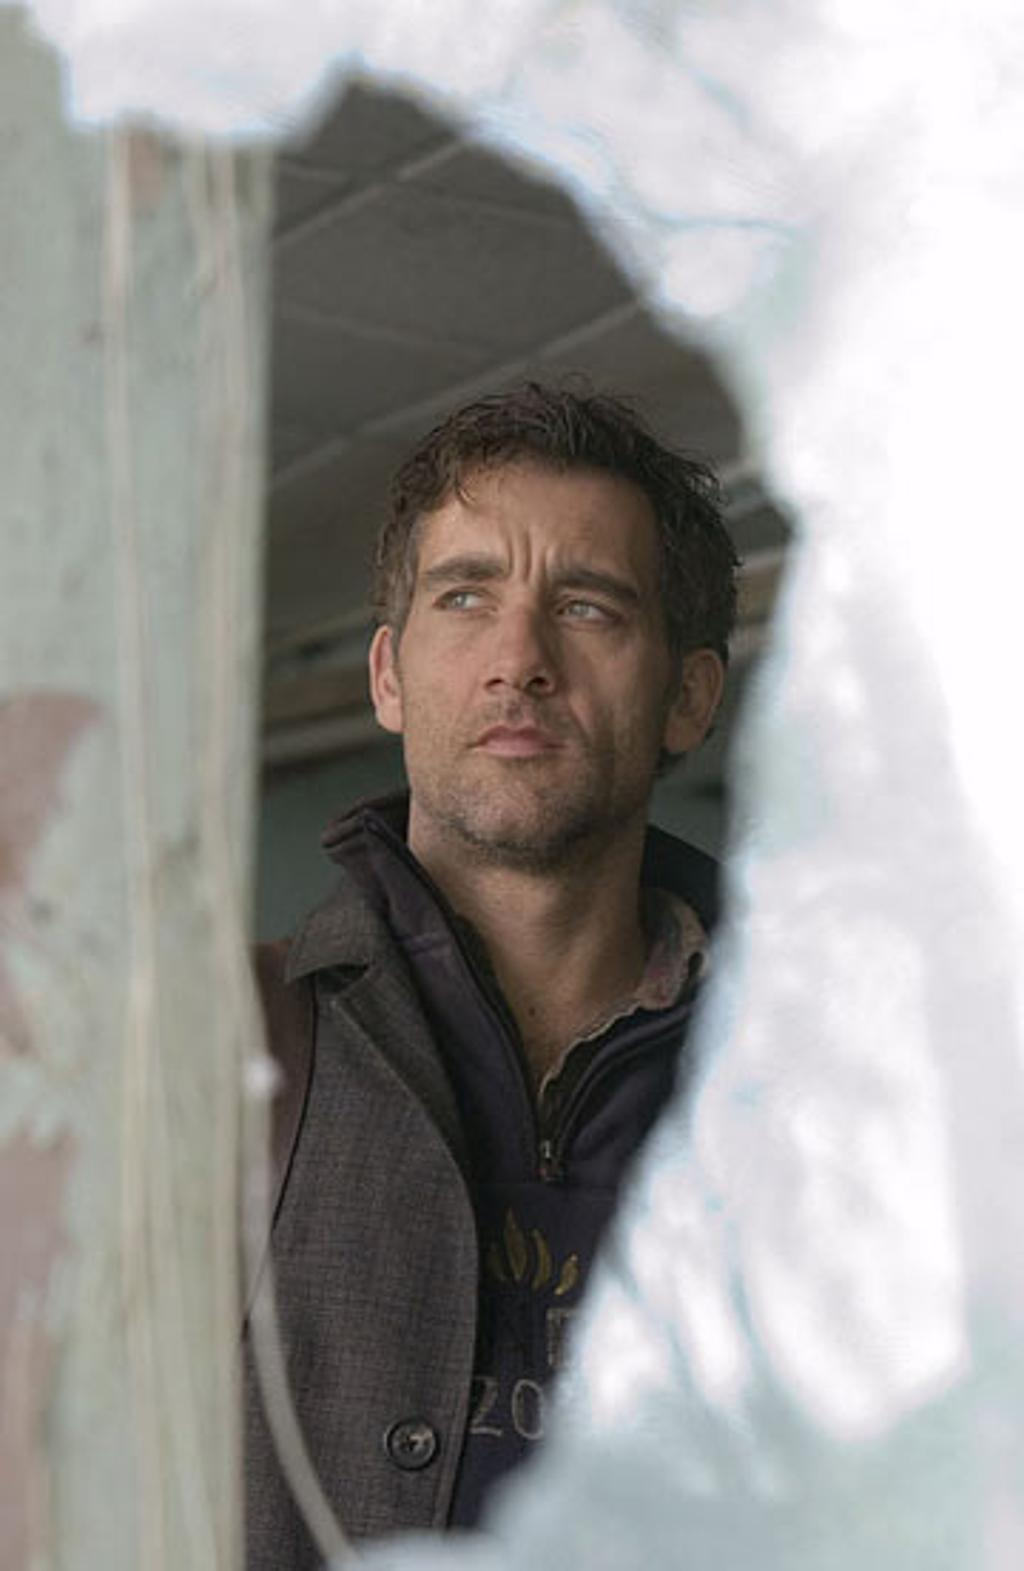face: (420, 466, 668, 840)
